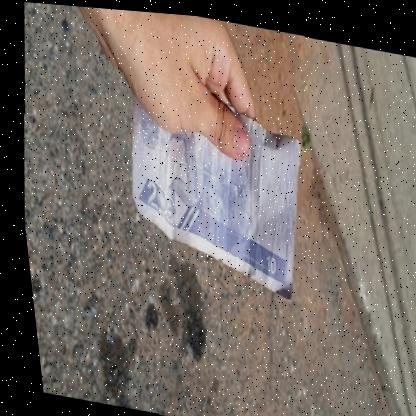ten-back-vef: (109, 77, 315, 296)
